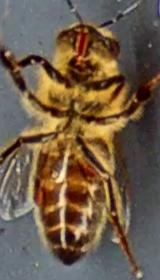varroa_mite: (75, 153, 97, 181), (30, 171, 46, 208)
